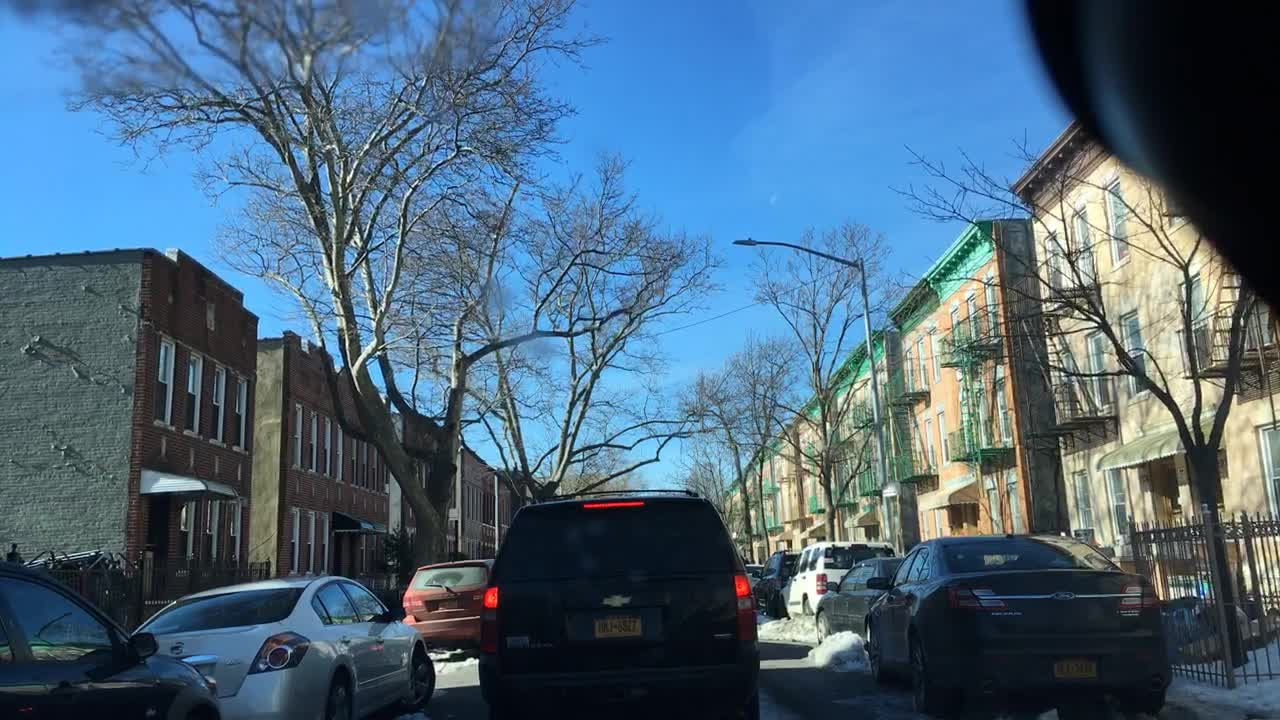car: (475, 487, 763, 718), (864, 529, 1176, 718), (127, 572, 435, 718), (0, 558, 221, 718), (782, 539, 893, 621), (813, 558, 906, 650), (402, 557, 494, 648), (750, 551, 801, 613), (744, 560, 763, 581)
